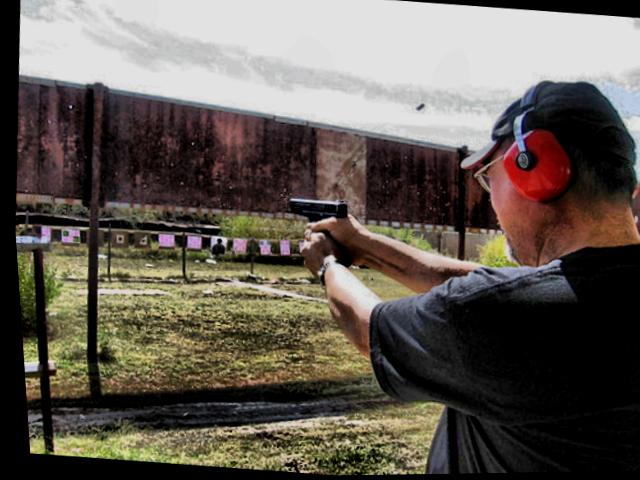pistol: (277, 194, 351, 266)
